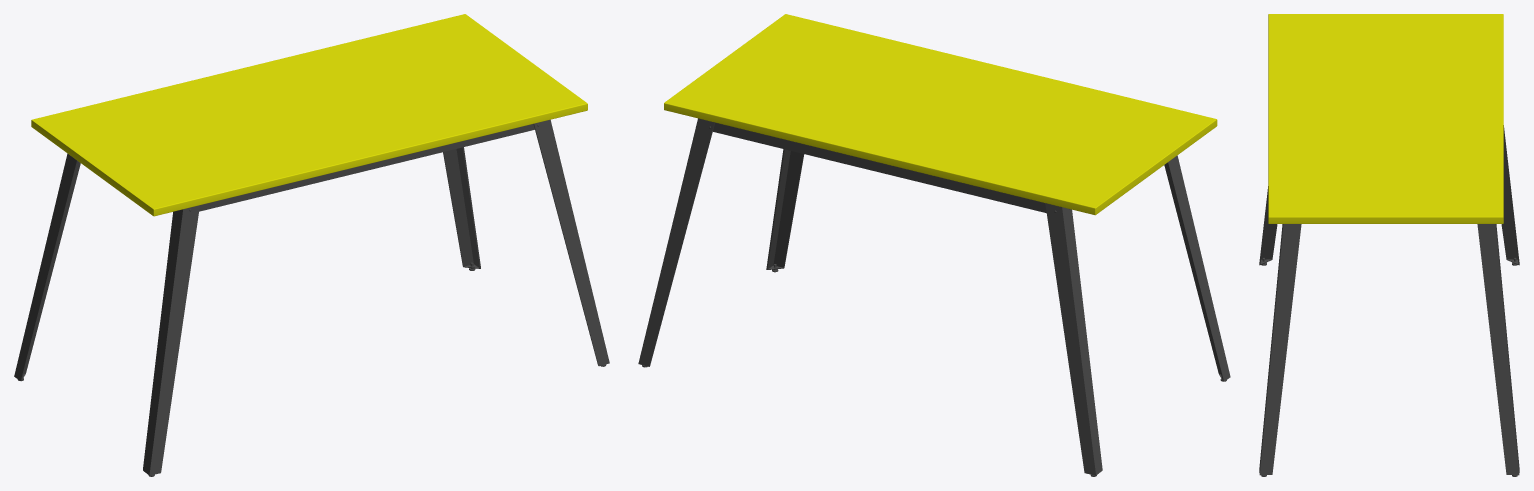
File: Table.fbx
3 views of the same model, side by side, from view 1: azimuth 30°, elevation 25°; view 2: azimuth 150°, elevation 25°; view 3: azimuth 270°, elevation 25° (orthographic). The views are drawn at different scales.
Parts seen in each view (by area): view 1: polySurface449, polySurface511; view 2: polySurface449, polySurface511; view 3: polySurface449, polySurface511.
Part boxes in pixels (x1,y1,x2,y2): polySurface449: (31,14,587,216); polySurface511: (14,119,609,476); polySurface449: (664,14,1217,215); polySurface511: (638,118,1230,476); polySurface449: (1268,14,1503,223); polySurface511: (1259,125,1519,476).
Bounding box in the file's own units: 103 × 56.14 × 52.44.
